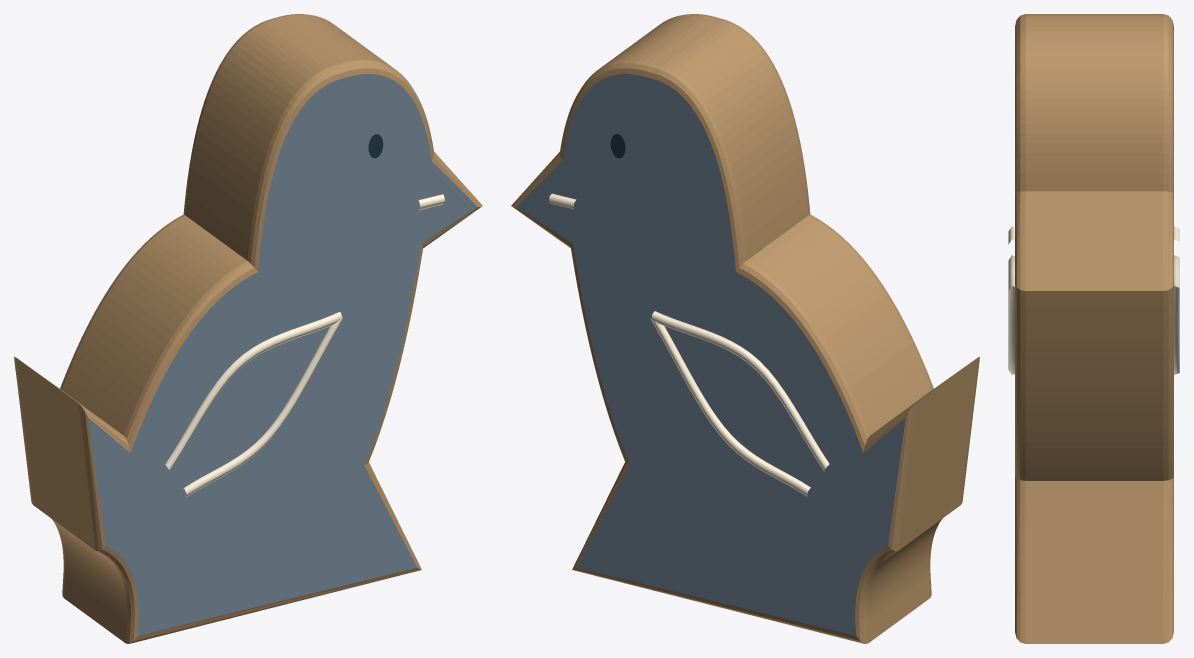
The model's file is meeple-3.glb.
The picture shows the model from 3 angles, left to right: view 1: azimuth 30°, elevation 25°; view 2: azimuth 150°, elevation 25°; view 3: azimuth 270°, elevation 25°; orthographic projection. The views are drawn at different scales.
Parts seen in each view (by area): view 1: meeple-3-괭이갈매기; view 2: meeple-3-괭이갈매기; view 3: meeple-3-괭이갈매기.
Boxes of the visible parts, bbox=[...] form: meeple-3-괭이갈매기: bbox=[14, 14, 482, 643]; meeple-3-괭이갈매기: bbox=[511, 14, 979, 643]; meeple-3-괭이갈매기: bbox=[1008, 14, 1179, 643].
Bounding box in the file's own units: 0.024 × 0.03 × 0.008.
